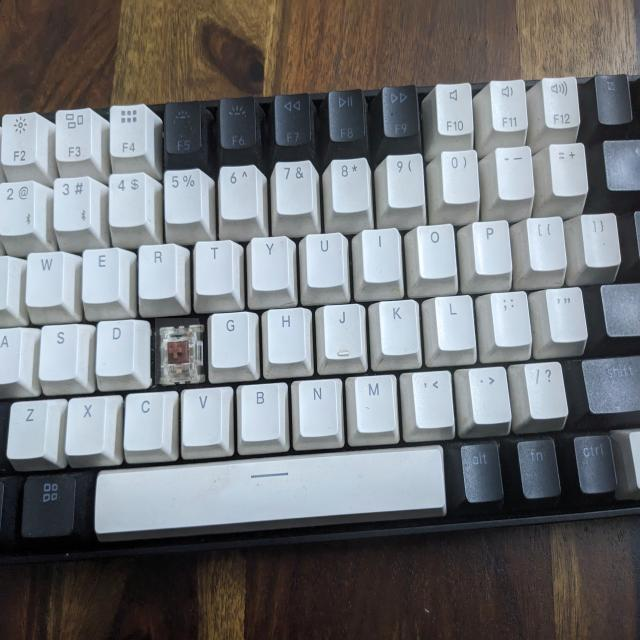C: (156, 318, 200, 384), (156, 322, 200, 381)
